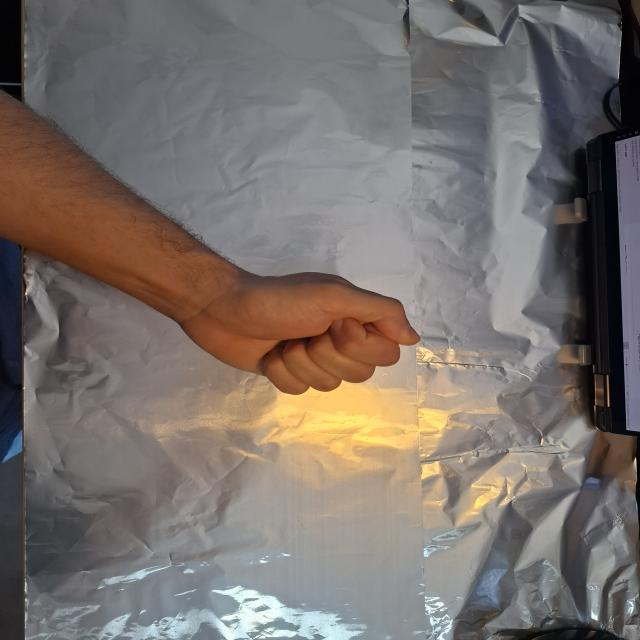glove_off: (171, 266, 424, 396)
